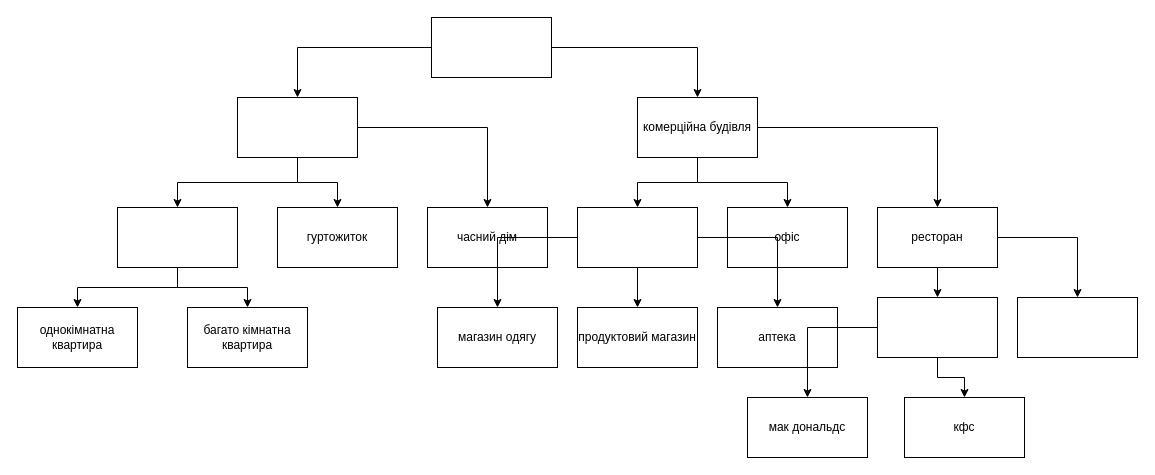
This 1155x475 diagram has some shape labels left out. Each missing label, with the centre of its shape:
будинок: [491,47]
житловий будинок: [297,127]
квартира: [177,237]
магазин: [637,237]
ресторан вищої кухні: [1077,327]
фаст фуд: [937,327]
